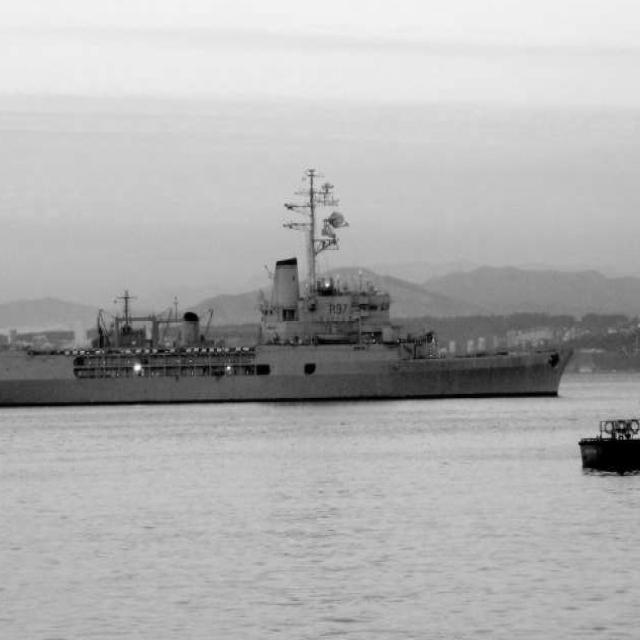Portanaves: (1, 163, 581, 417)
